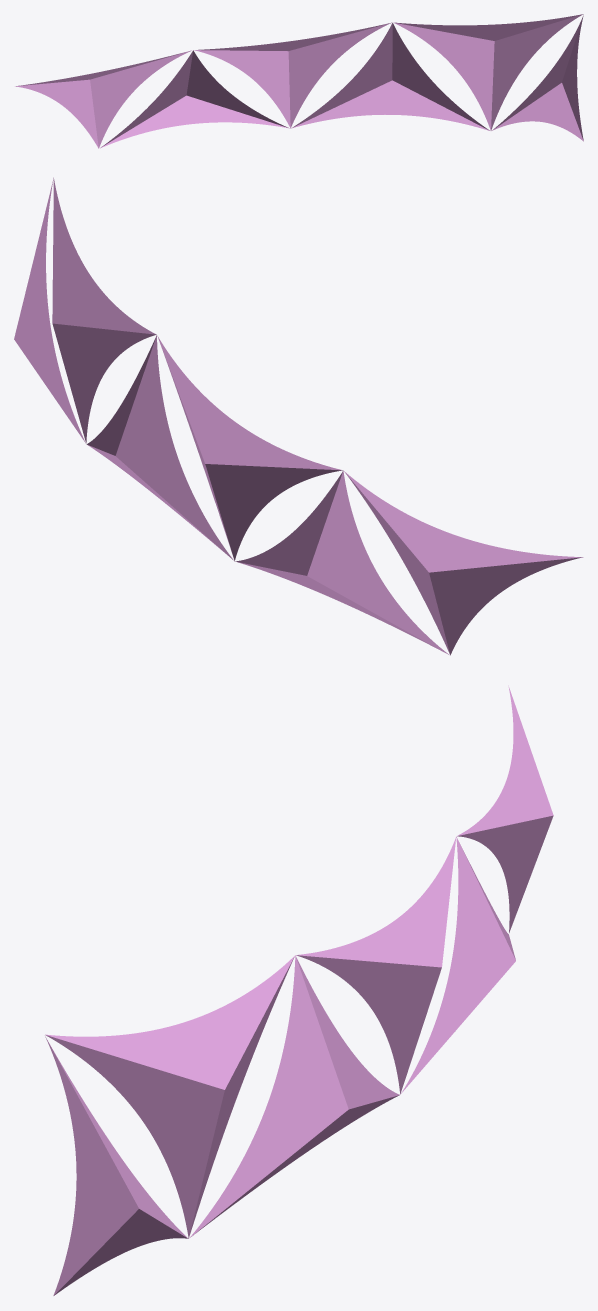
File: TYPE12-4.glb
The picture shows the model from 3 angles, top to bottom: view 1: azimuth 30°, elevation 25°; view 2: azimuth 150°, elevation 25°; view 3: azimuth 270°, elevation 25°; orthographic projection. The views are drawn at different scales.
Visible parts, largest first — view 1: TYPE12-4 (×18); view 2: TYPE12-4 (×13); view 3: TYPE12-4 (×14).
Boxes of the visible parts, box(x1,y1,x2,y2) form: TYPE12-4 (×18): box(15, 14, 583, 148); TYPE12-4 (×13): box(14, 177, 583, 655); TYPE12-4 (×14): box(45, 685, 553, 1295).
Bounding box in the file's own units: 25.22 × 6.87 × 12.19.
